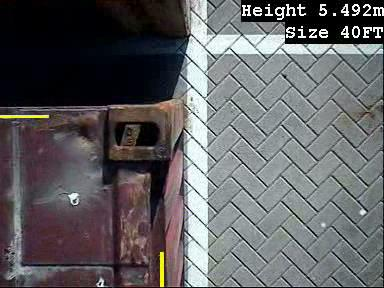groundmarker_2: (201, 194, 240, 249), (199, 20, 237, 75)
